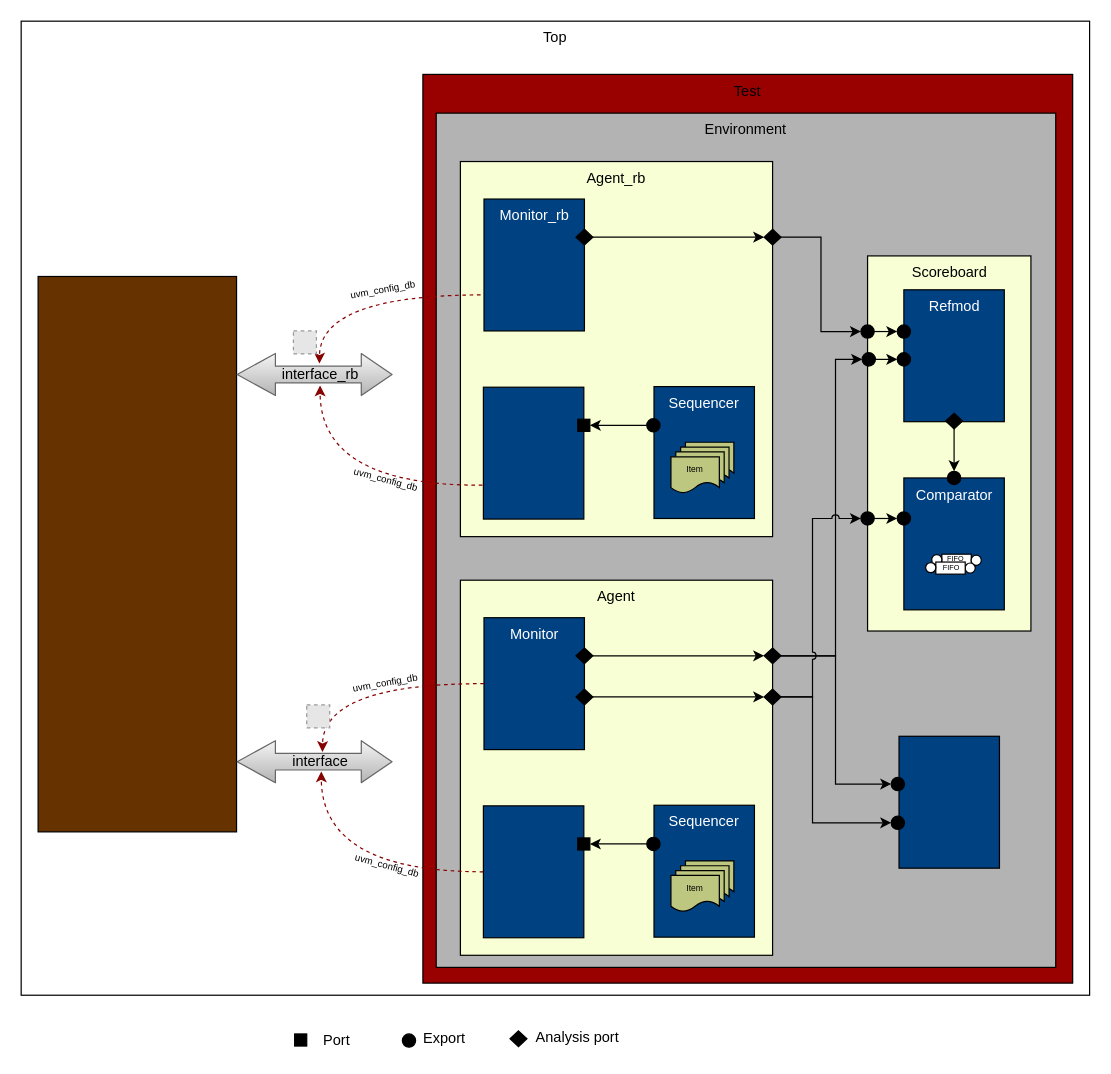
Some shapes in this 1111 by 1074 pixel diagram are drawn without their labels. Grey dashed boxes stand in for pictures. Here are the shapes that lost their labels. From the top down, the centre of each, then its label:
the point at 533,452: Driver_rb
the point at 137,553: DUT
the point at 948,801: Coverage
the point at 533,871: Driver
